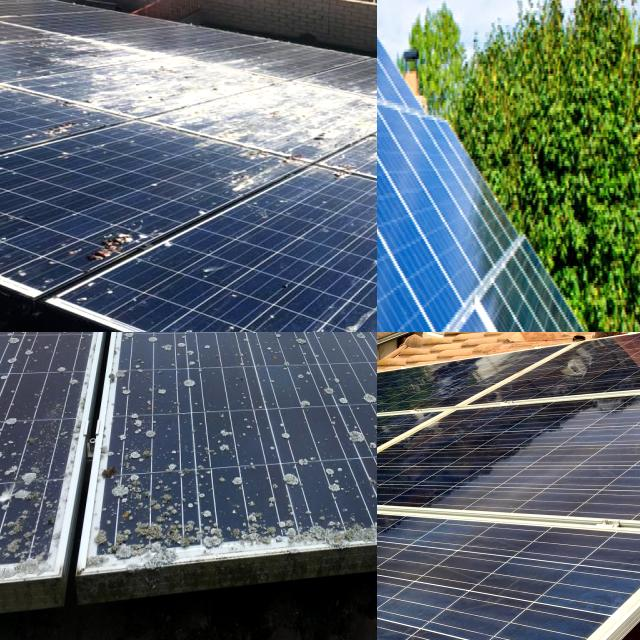bird: (56, 17, 206, 98), (222, 110, 337, 196), (106, 463, 220, 545), (274, 409, 344, 497), (0, 426, 50, 547), (129, 332, 205, 400), (78, 212, 160, 266), (0, 128, 35, 216), (217, 293, 289, 332), (0, 332, 41, 383), (268, 332, 307, 368), (359, 371, 377, 423), (137, 332, 178, 353)
crack: (377, 17, 626, 332), (377, 144, 640, 332), (463, 428, 640, 502), (377, 0, 477, 124), (377, 523, 495, 605), (377, 594, 546, 640), (377, 575, 468, 640), (377, 0, 442, 62)
